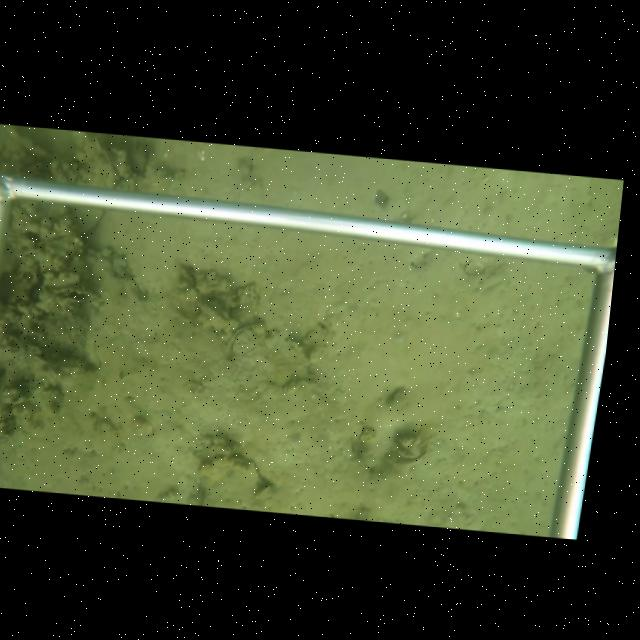Oyster-Closed: (223, 320, 266, 360)
Oyster-Indeterminate: (190, 453, 262, 510), (70, 132, 122, 188)
Oyster-Open: (45, 286, 104, 306)
